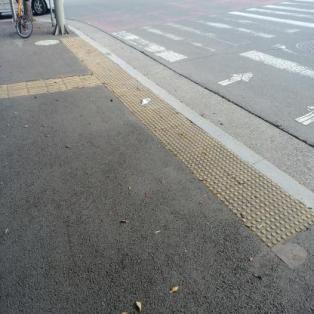Podoctatil: (118, 101, 314, 259), (59, 27, 156, 100), (0, 72, 106, 102)
